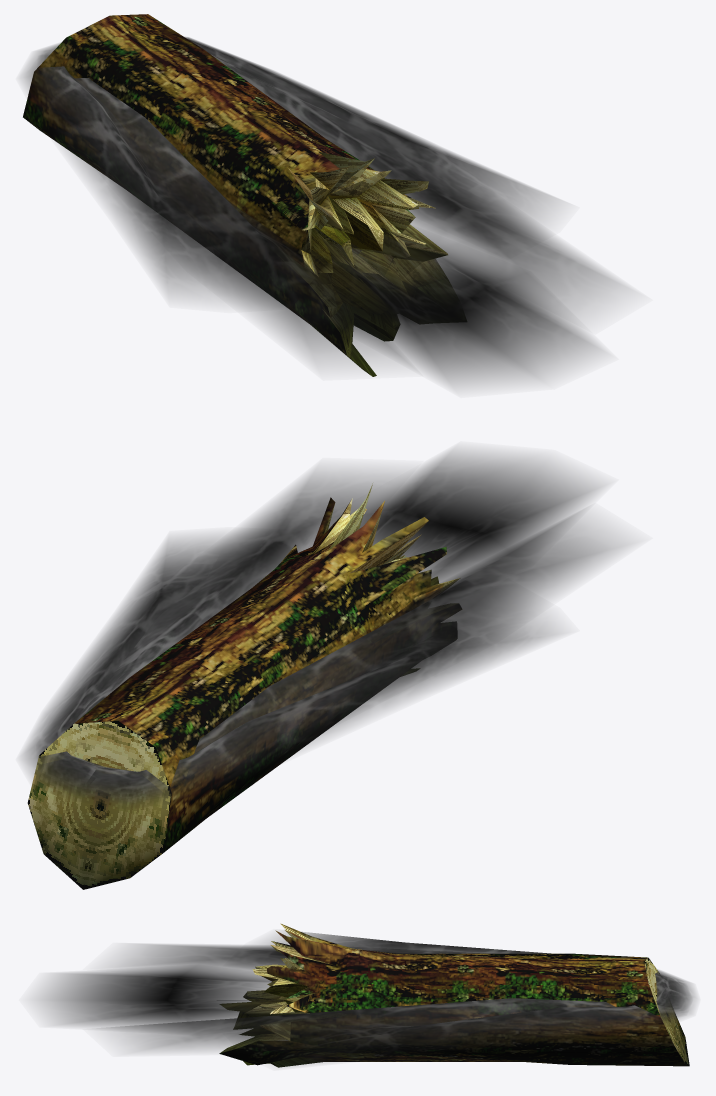
The model's file is Boat.gltf.
3 views of the same model, one above another, from view 1: azimuth 30°, elevation 25°; view 2: azimuth 150°, elevation 25°; view 3: azimuth 270°, elevation 25° (orthographic). The views are drawn at different scales.
Parts seen in each view (by area): view 1: BoatRipple, Boat; view 2: BoatRipple, Boat; view 3: Boat, BoatRipple.
Boxes of the visible parts, box(x1,y1,x2,y2) form: BoatRipple: box(22, 37, 626, 386); Boat: box(23, 14, 450, 376); BoatRipple: box(22, 450, 626, 804); Boat: box(27, 483, 461, 889); Boat: box(219, 923, 689, 1067); BoatRipple: box(37, 932, 696, 1065).
Size of the model in its own units: 2.21 by 0.8906 by 3.92.
3 materials, 3 textured.
